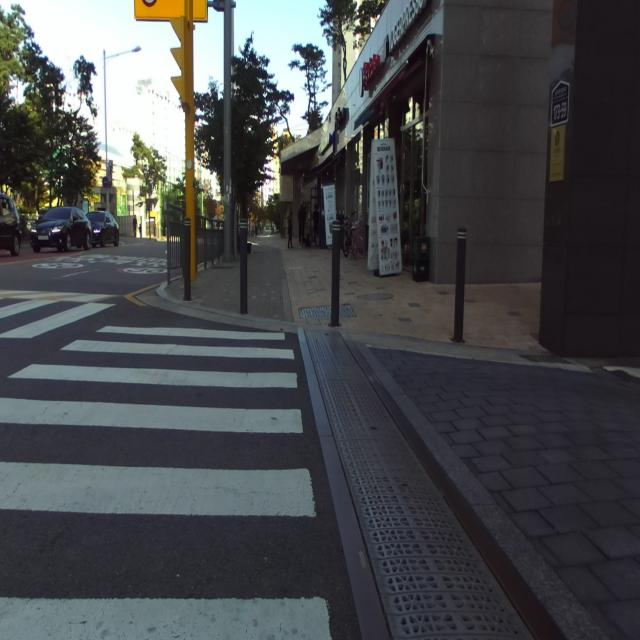횡단보도: (0, 327, 330, 639)
